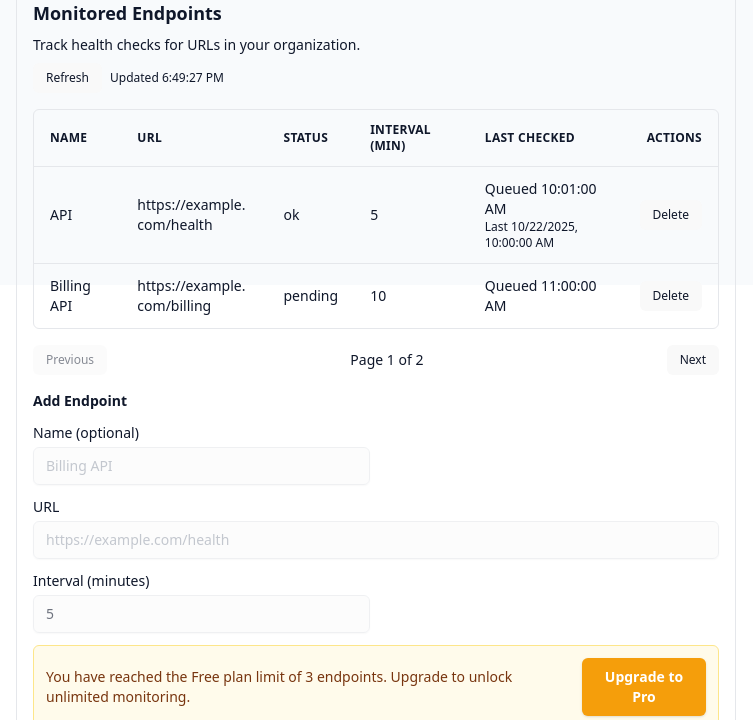
DashboardPage › logs pagination events when changing pages
The image size is (753, 720).
(page scrolled)
Expected: the text "https://example.com/health" is shown, [137,195,246,234]
Click the button "Next".
click(693, 360)  # box [667,345,719,375]
(page scrolled)
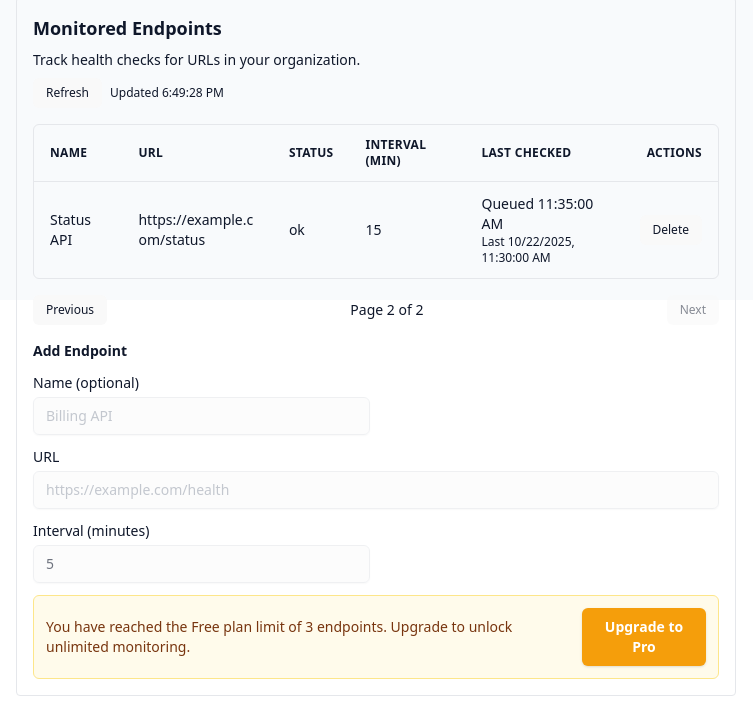
Expected: the text "https://example.com/status" is shown, [138,210,253,249]
